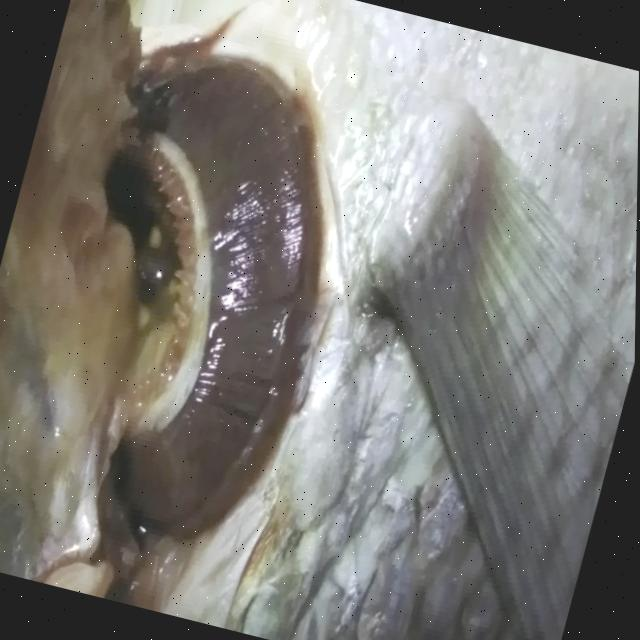Non-Fresh: (0, 0, 443, 630)
